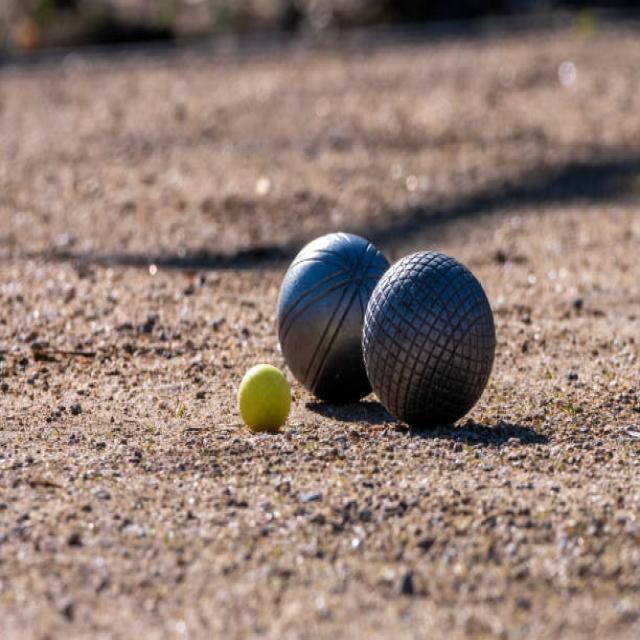hatball: (234, 359, 295, 439)
petanque: (358, 245, 500, 433), (269, 235, 390, 414)
